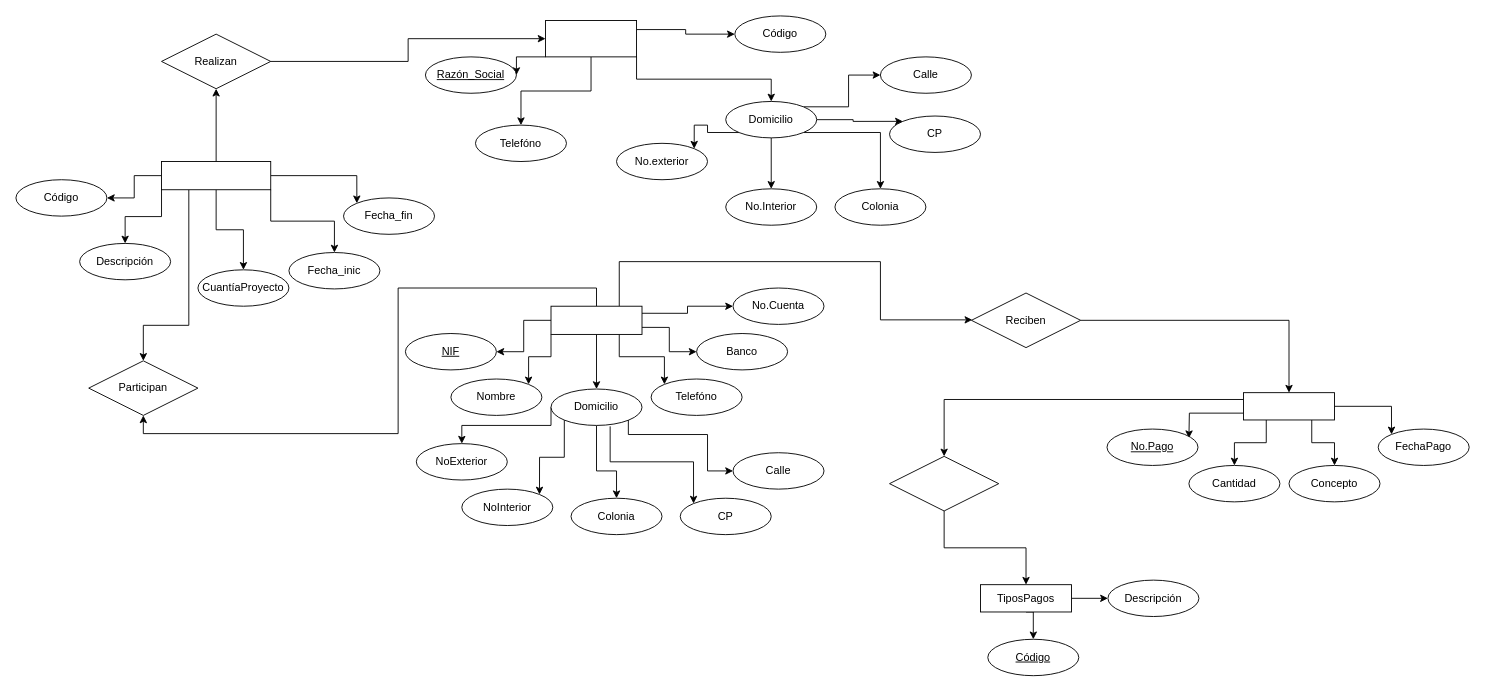
The diagram is 1485 pixels wide and 692 high, and some of its shapes have lost their labels. Here are the shapes that lost their labels. From the top down, the box of each, then its label:
(545, 20, 637, 57): Clientes
(161, 161, 271, 190): Proyectos
(550, 305, 642, 334): Colaboradores
(1243, 392, 1335, 420): Pago
(889, 455, 999, 511): Pertenece
